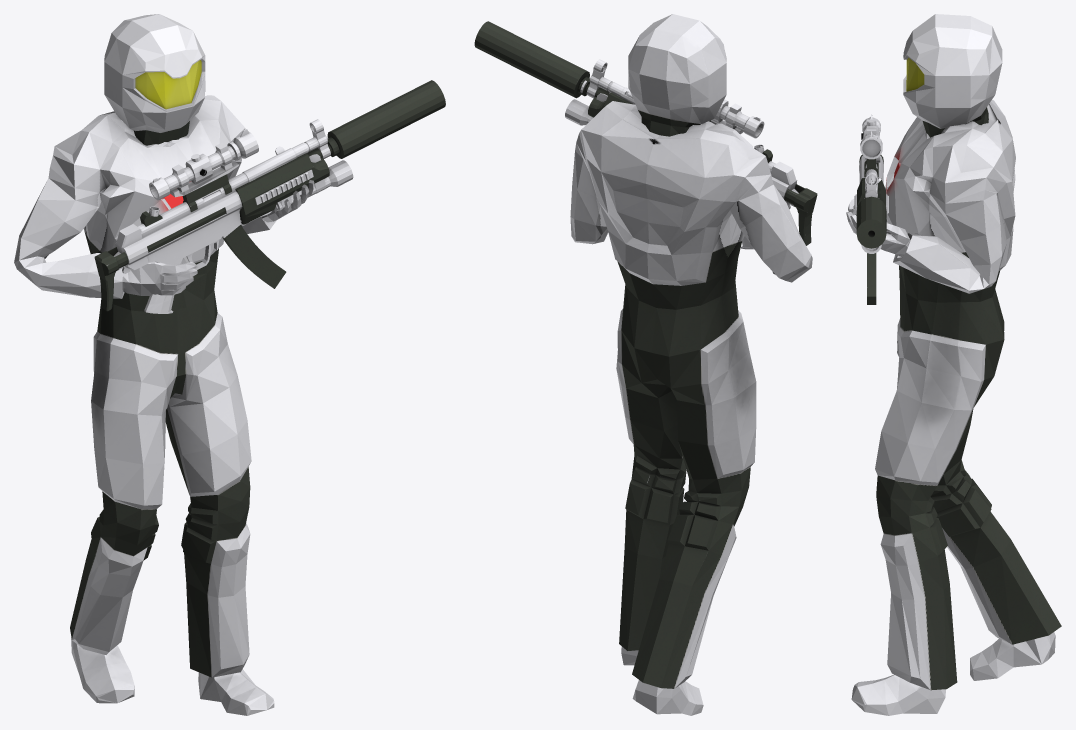
The model's file is walk17.obj.
The picture shows the model from 3 angles, left to right: view 1: azimuth 30°, elevation 25°; view 2: azimuth 150°, elevation 25°; view 3: azimuth 270°, elevation 25°; orthographic projection. The views are drawn at different scales.
Parts seen in each view (by area): view 1: Male001Skin_001, Object001; view 2: Male001Skin_001, Object001; view 3: Male001Skin_001, Object001.
Boxes of the visible parts, x1,y1,x2,y2 form: Male001Skin_001: (14,14,314,715); Object001: (94,80,445,313); Male001Skin_001: (570,14,812,715); Object001: (474,21,817,249); Male001Skin_001: (846,14,1061,715); Object001: (854,114,888,304).
Size of the model in its own units: 1111 by 1905 by 557.
1 material, 1 textured.
